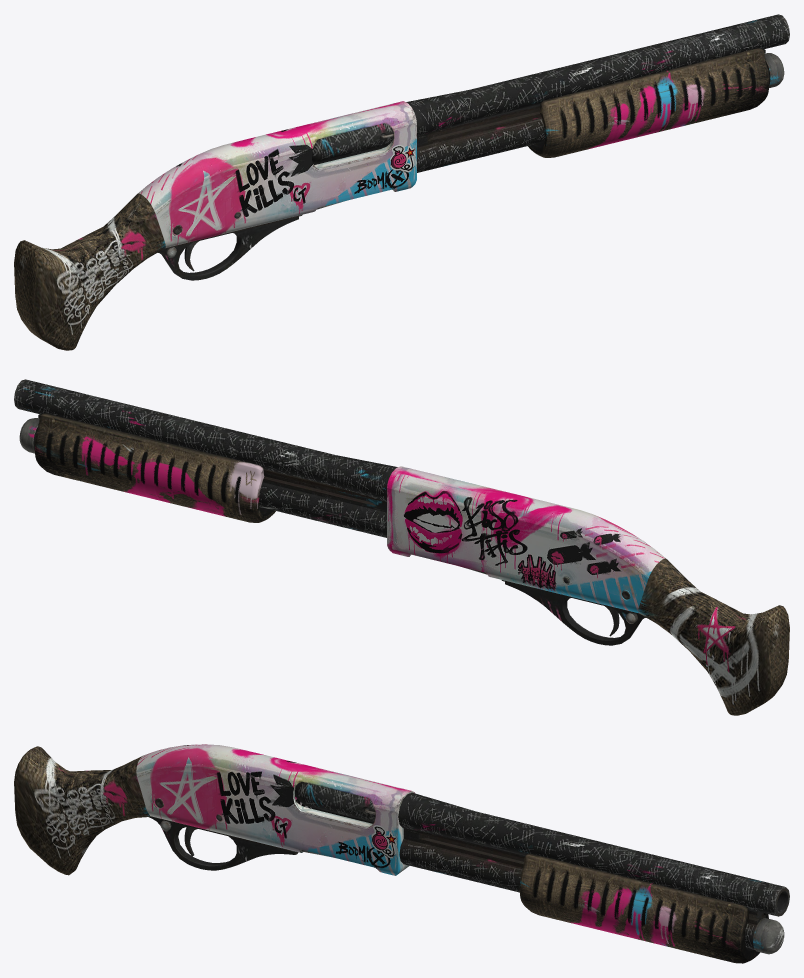
File: w_sawnoffshotgun_wp.glb
3 renders of one model, top to bottom at view 1: azimuth 30°, elevation 25°; view 2: azimuth 150°, elevation 25°; view 3: azimuth 330°, elevation 25°, orthographic.
Visible parts, largest first — view 1: Gun_Root; view 2: Gun_Root; view 3: Gun_Root.
Part boxes in pixels (x1,y1,x2,y2): Gun_Root: (14,14,789,350); Gun_Root: (14,379,789,715); Gun_Root: (14,744,789,963).
Size of the model in its own units: 0.6023 by 0.1235 by 0.041.
Materials: 1 (1 with a texture image).
